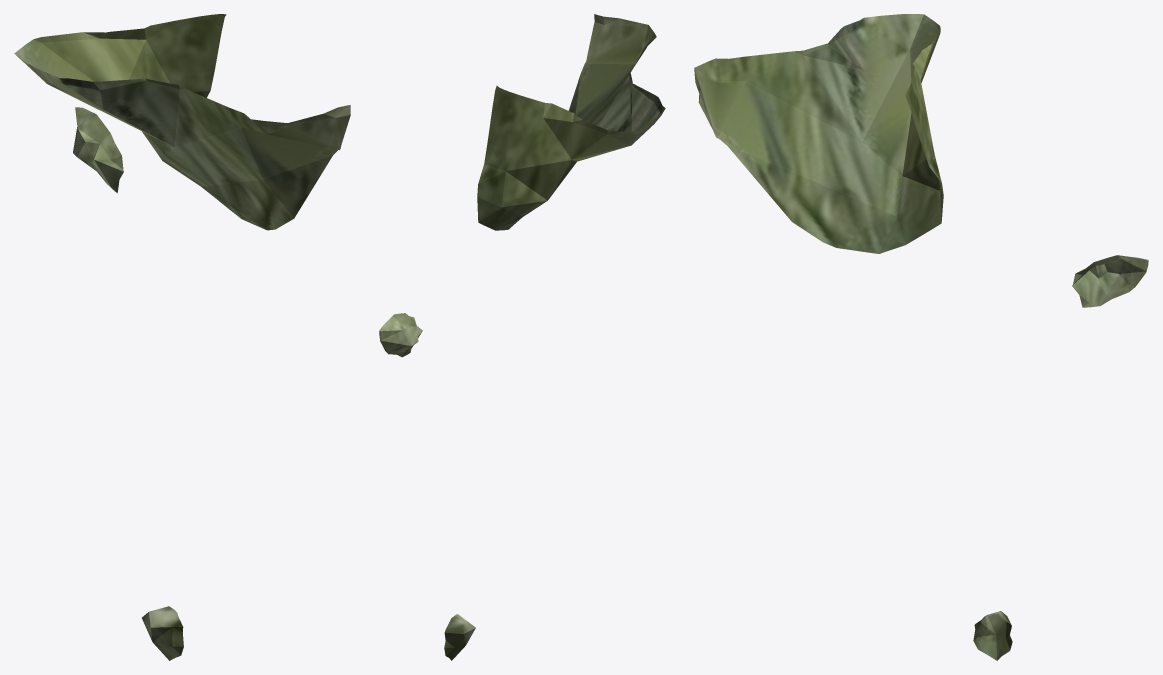
The picture shows the model from 3 angles, left to right: view 1: azimuth 30°, elevation 25°; view 2: azimuth 150°, elevation 25°; view 3: azimuth 270°, elevation 25°; orthographic projection. The views are drawn at different scales.
Bounding box in the file's own units: 1.55 × 5.09 × 3.7.
1 material, 1 textured.
